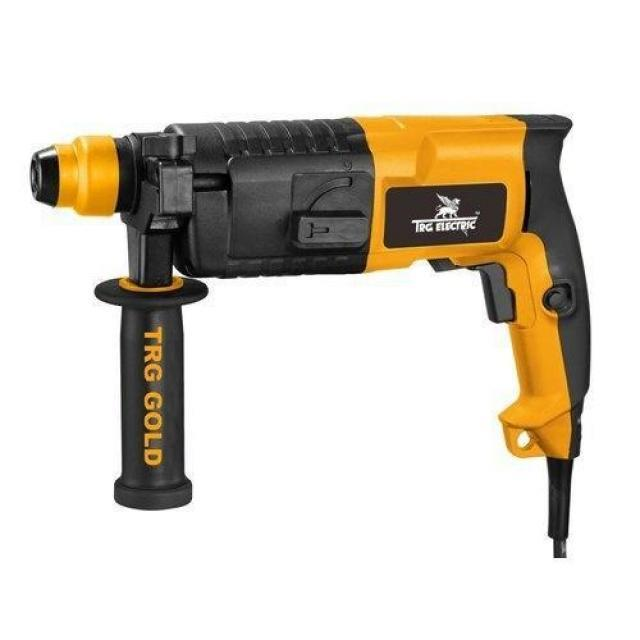drill: (28, 114, 592, 562)
